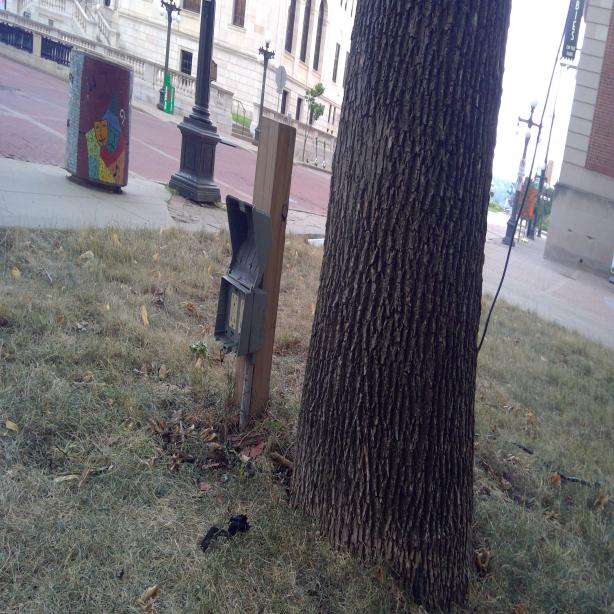typeb: (229, 289, 240, 310), (228, 314, 238, 330)
